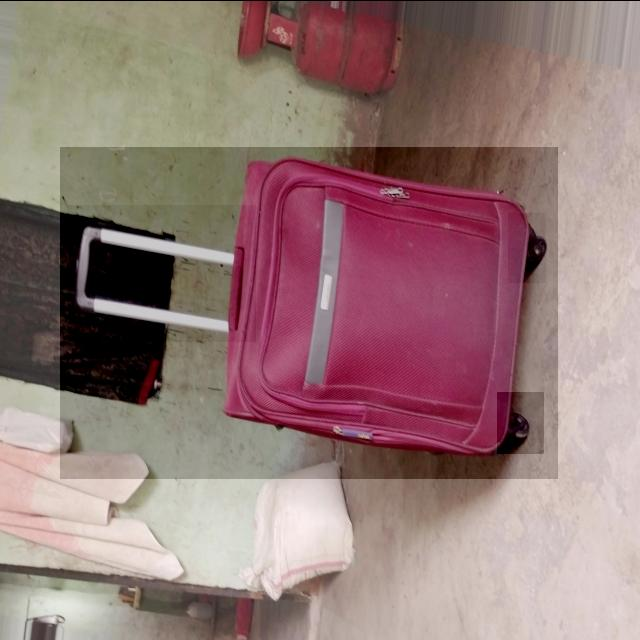Bag: (58, 150, 558, 478)
Handle: (67, 207, 235, 358)
